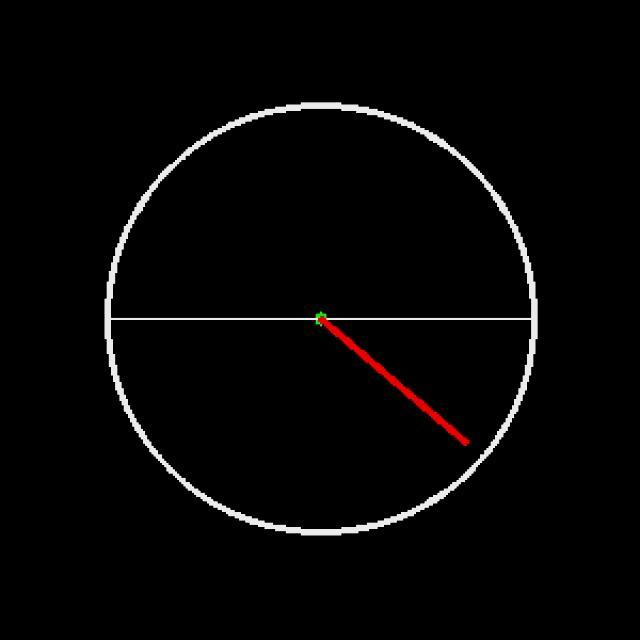Needle_Tip: (439, 413, 481, 460)
Needle_base: (284, 280, 357, 342)
